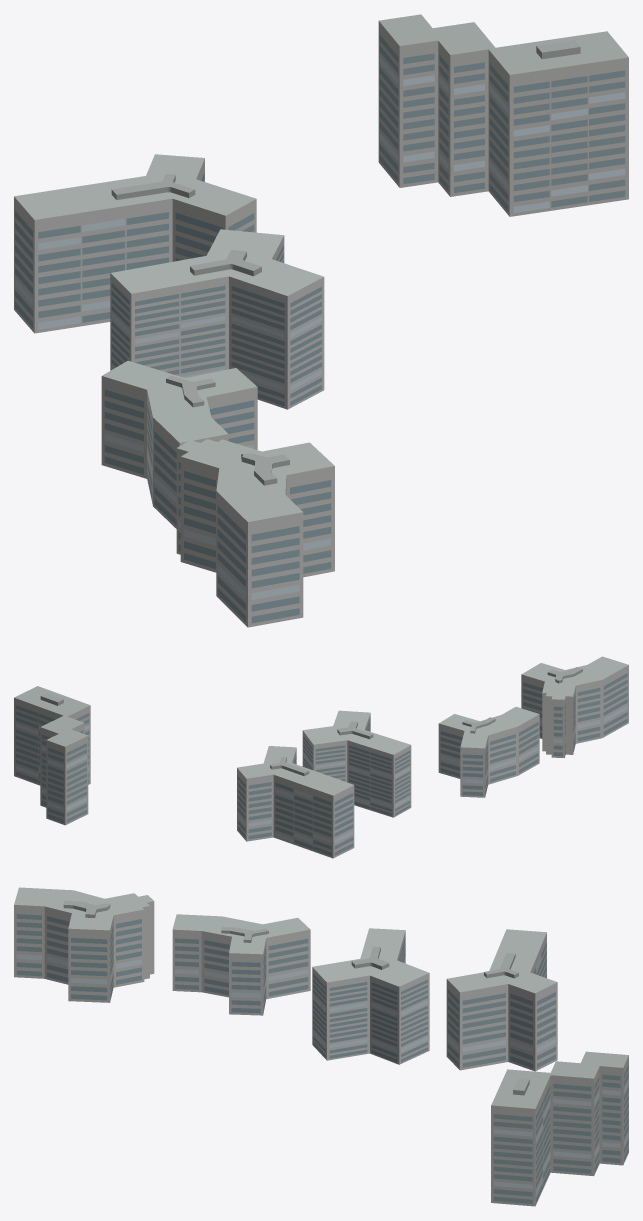
The model's file is apt-a10024777.glb.
The picture shows the model from 3 angles, top to bottom: view 1: azimuth 30°, elevation 25°; view 2: azimuth 150°, elevation 25°; view 3: azimuth 270°, elevation 25°; orthographic projection. The views are drawn at different scales.
Parts seen in each view (by area): view 1: apt-a10024777; view 2: apt-a10024777; view 3: apt-a10024777.
Part boxes in pixels (x1,y1,x2,y2): apt-a10024777: (14,14,628,627); apt-a10024777: (14,656,628,858); apt-a10024777: (14,887,628,1206).
Size of the model in its own units: 181 by 35 by 191.
